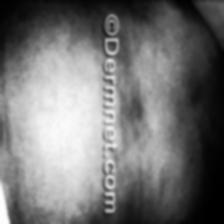Non-Cancerous Skin Condition: (134, 32, 220, 224)
